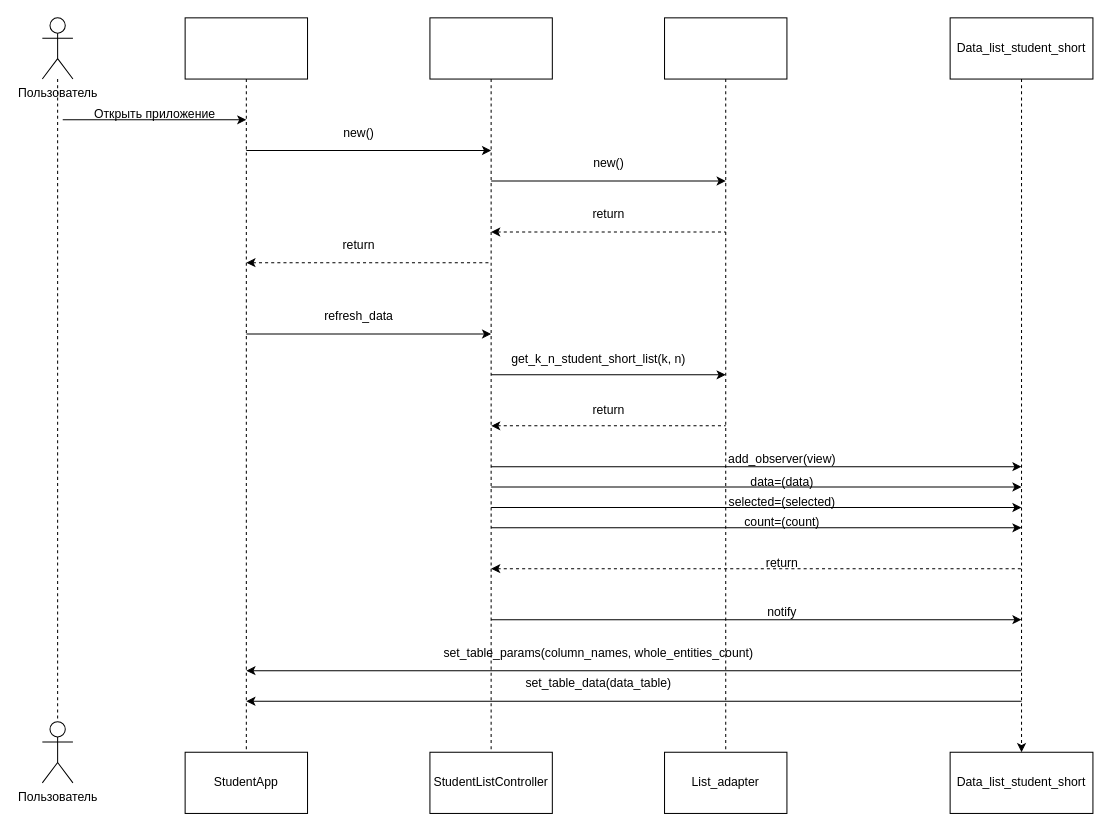
The diagram is 1111 pixels wide and 831 high, and some of its shapes have lost their labels. Each missing label, with the centre of its shape:
:List_adapter: [725,48]
:StudentApp: [246,48]
:StudentListController: [490,48]
